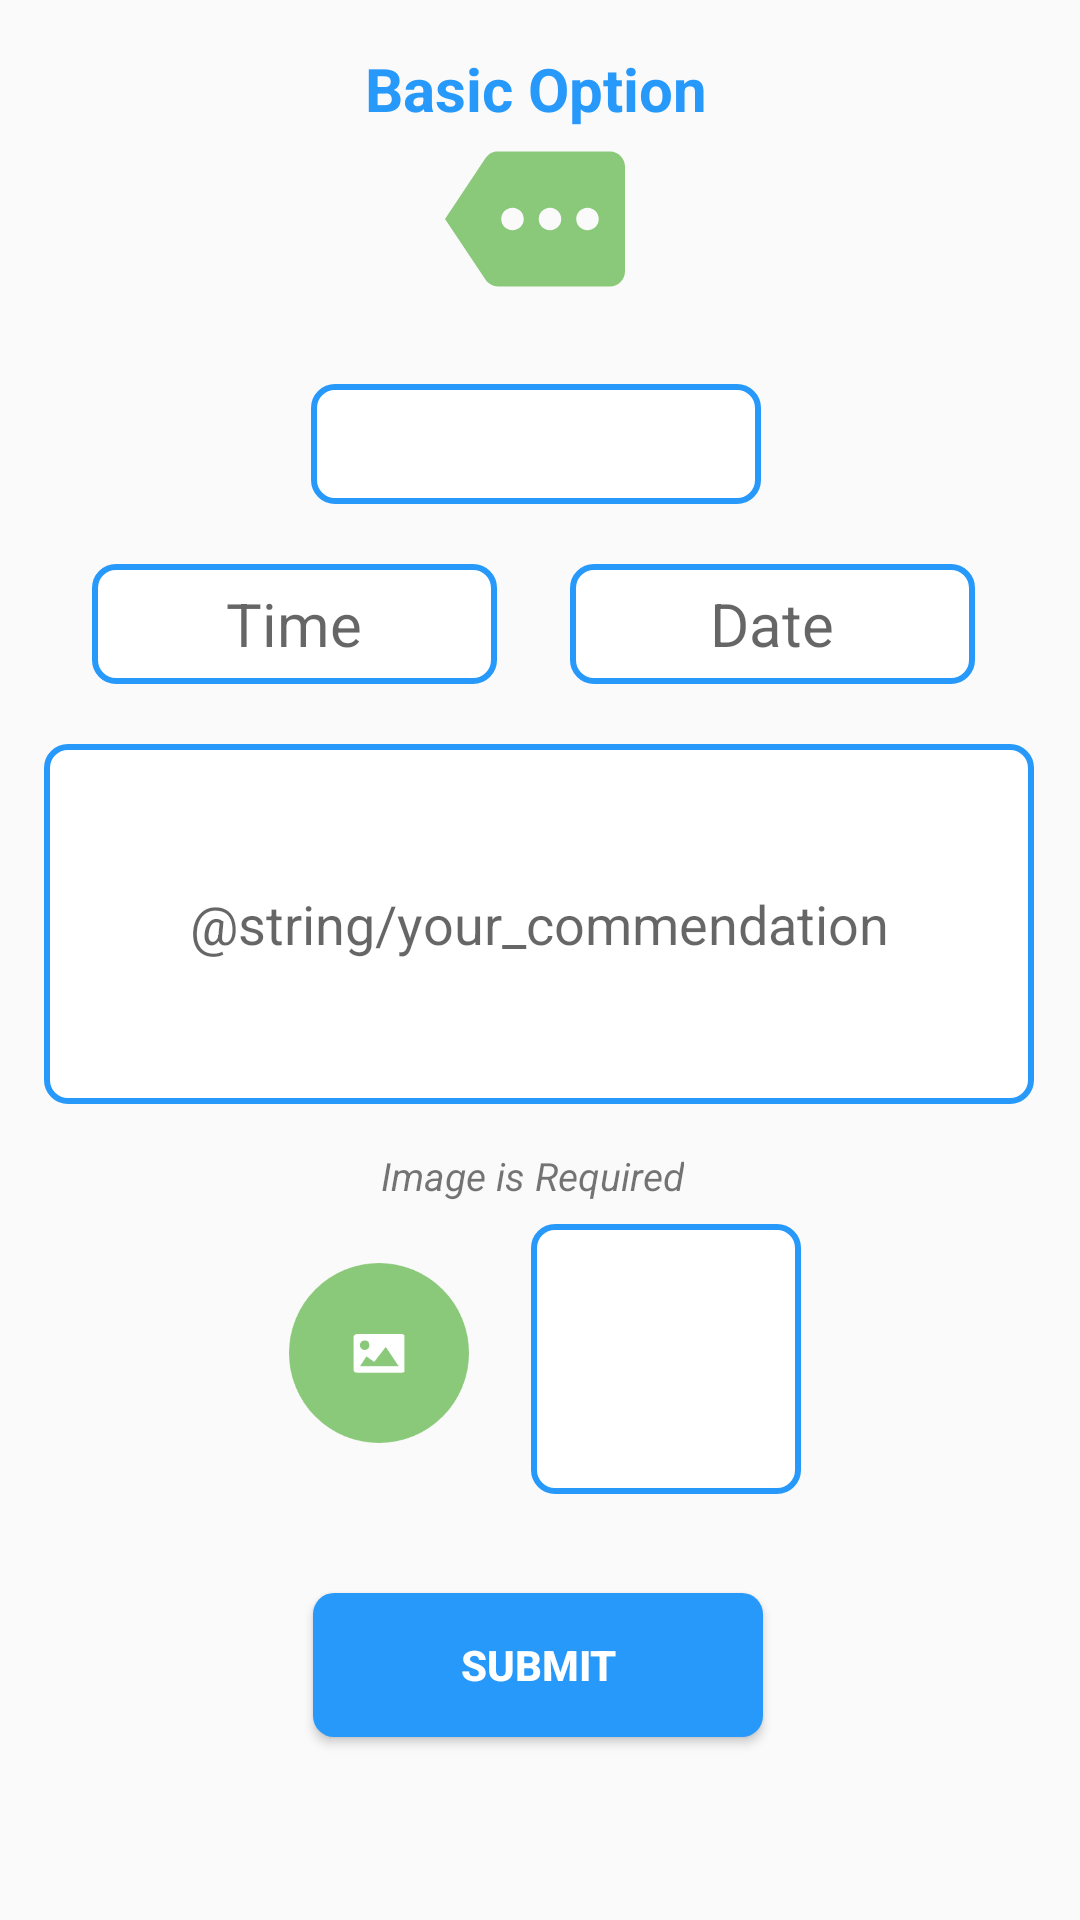

Where to tap for icons on this 1080×1920 app screen, as (x=x, y=y):
more: (x=535, y=219)
